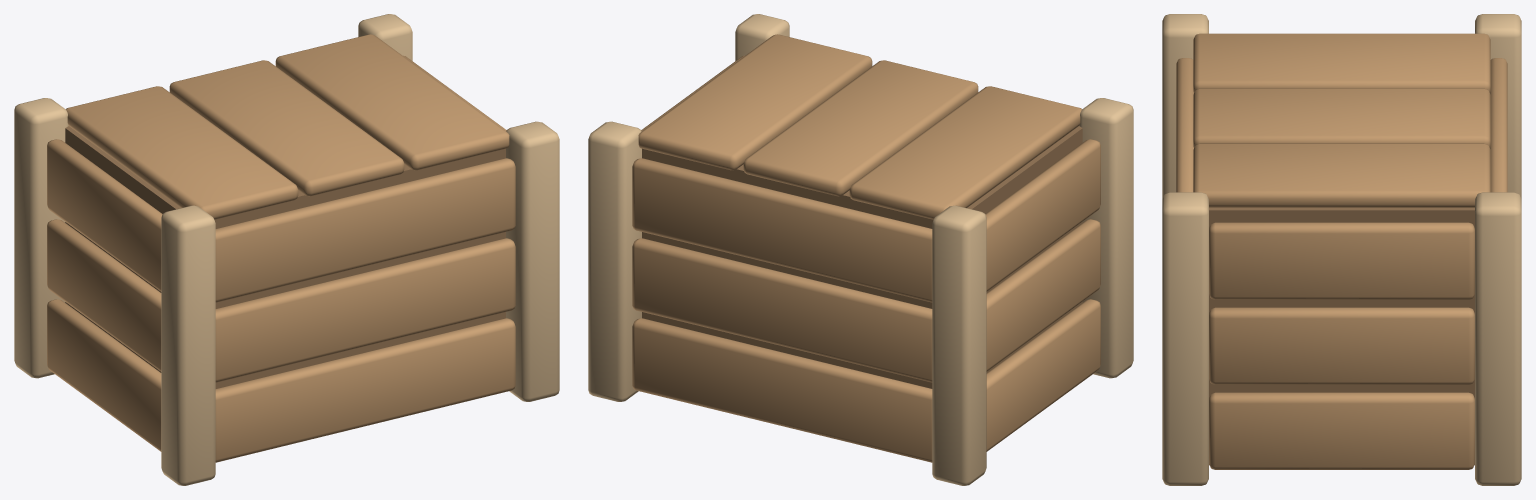
Rendered from Prop_Crate.fbx.
3 views of the same model, side by side, from view 1: azimuth 30°, elevation 25°; view 2: azimuth 150°, elevation 25°; view 3: azimuth 270°, elevation 25° (orthographic). The views are drawn at different scales.
Parts seen in each view (by area): view 1: Crate; view 2: Crate; view 3: Crate.
Part boxes in pixels (x1,y1,x2,y2): Crate: [14, 14, 559, 485]; Crate: [588, 14, 1133, 485]; Crate: [1162, 14, 1521, 485].
Bounding box in the file's own units: 0.6 × 0.395 × 0.46.
